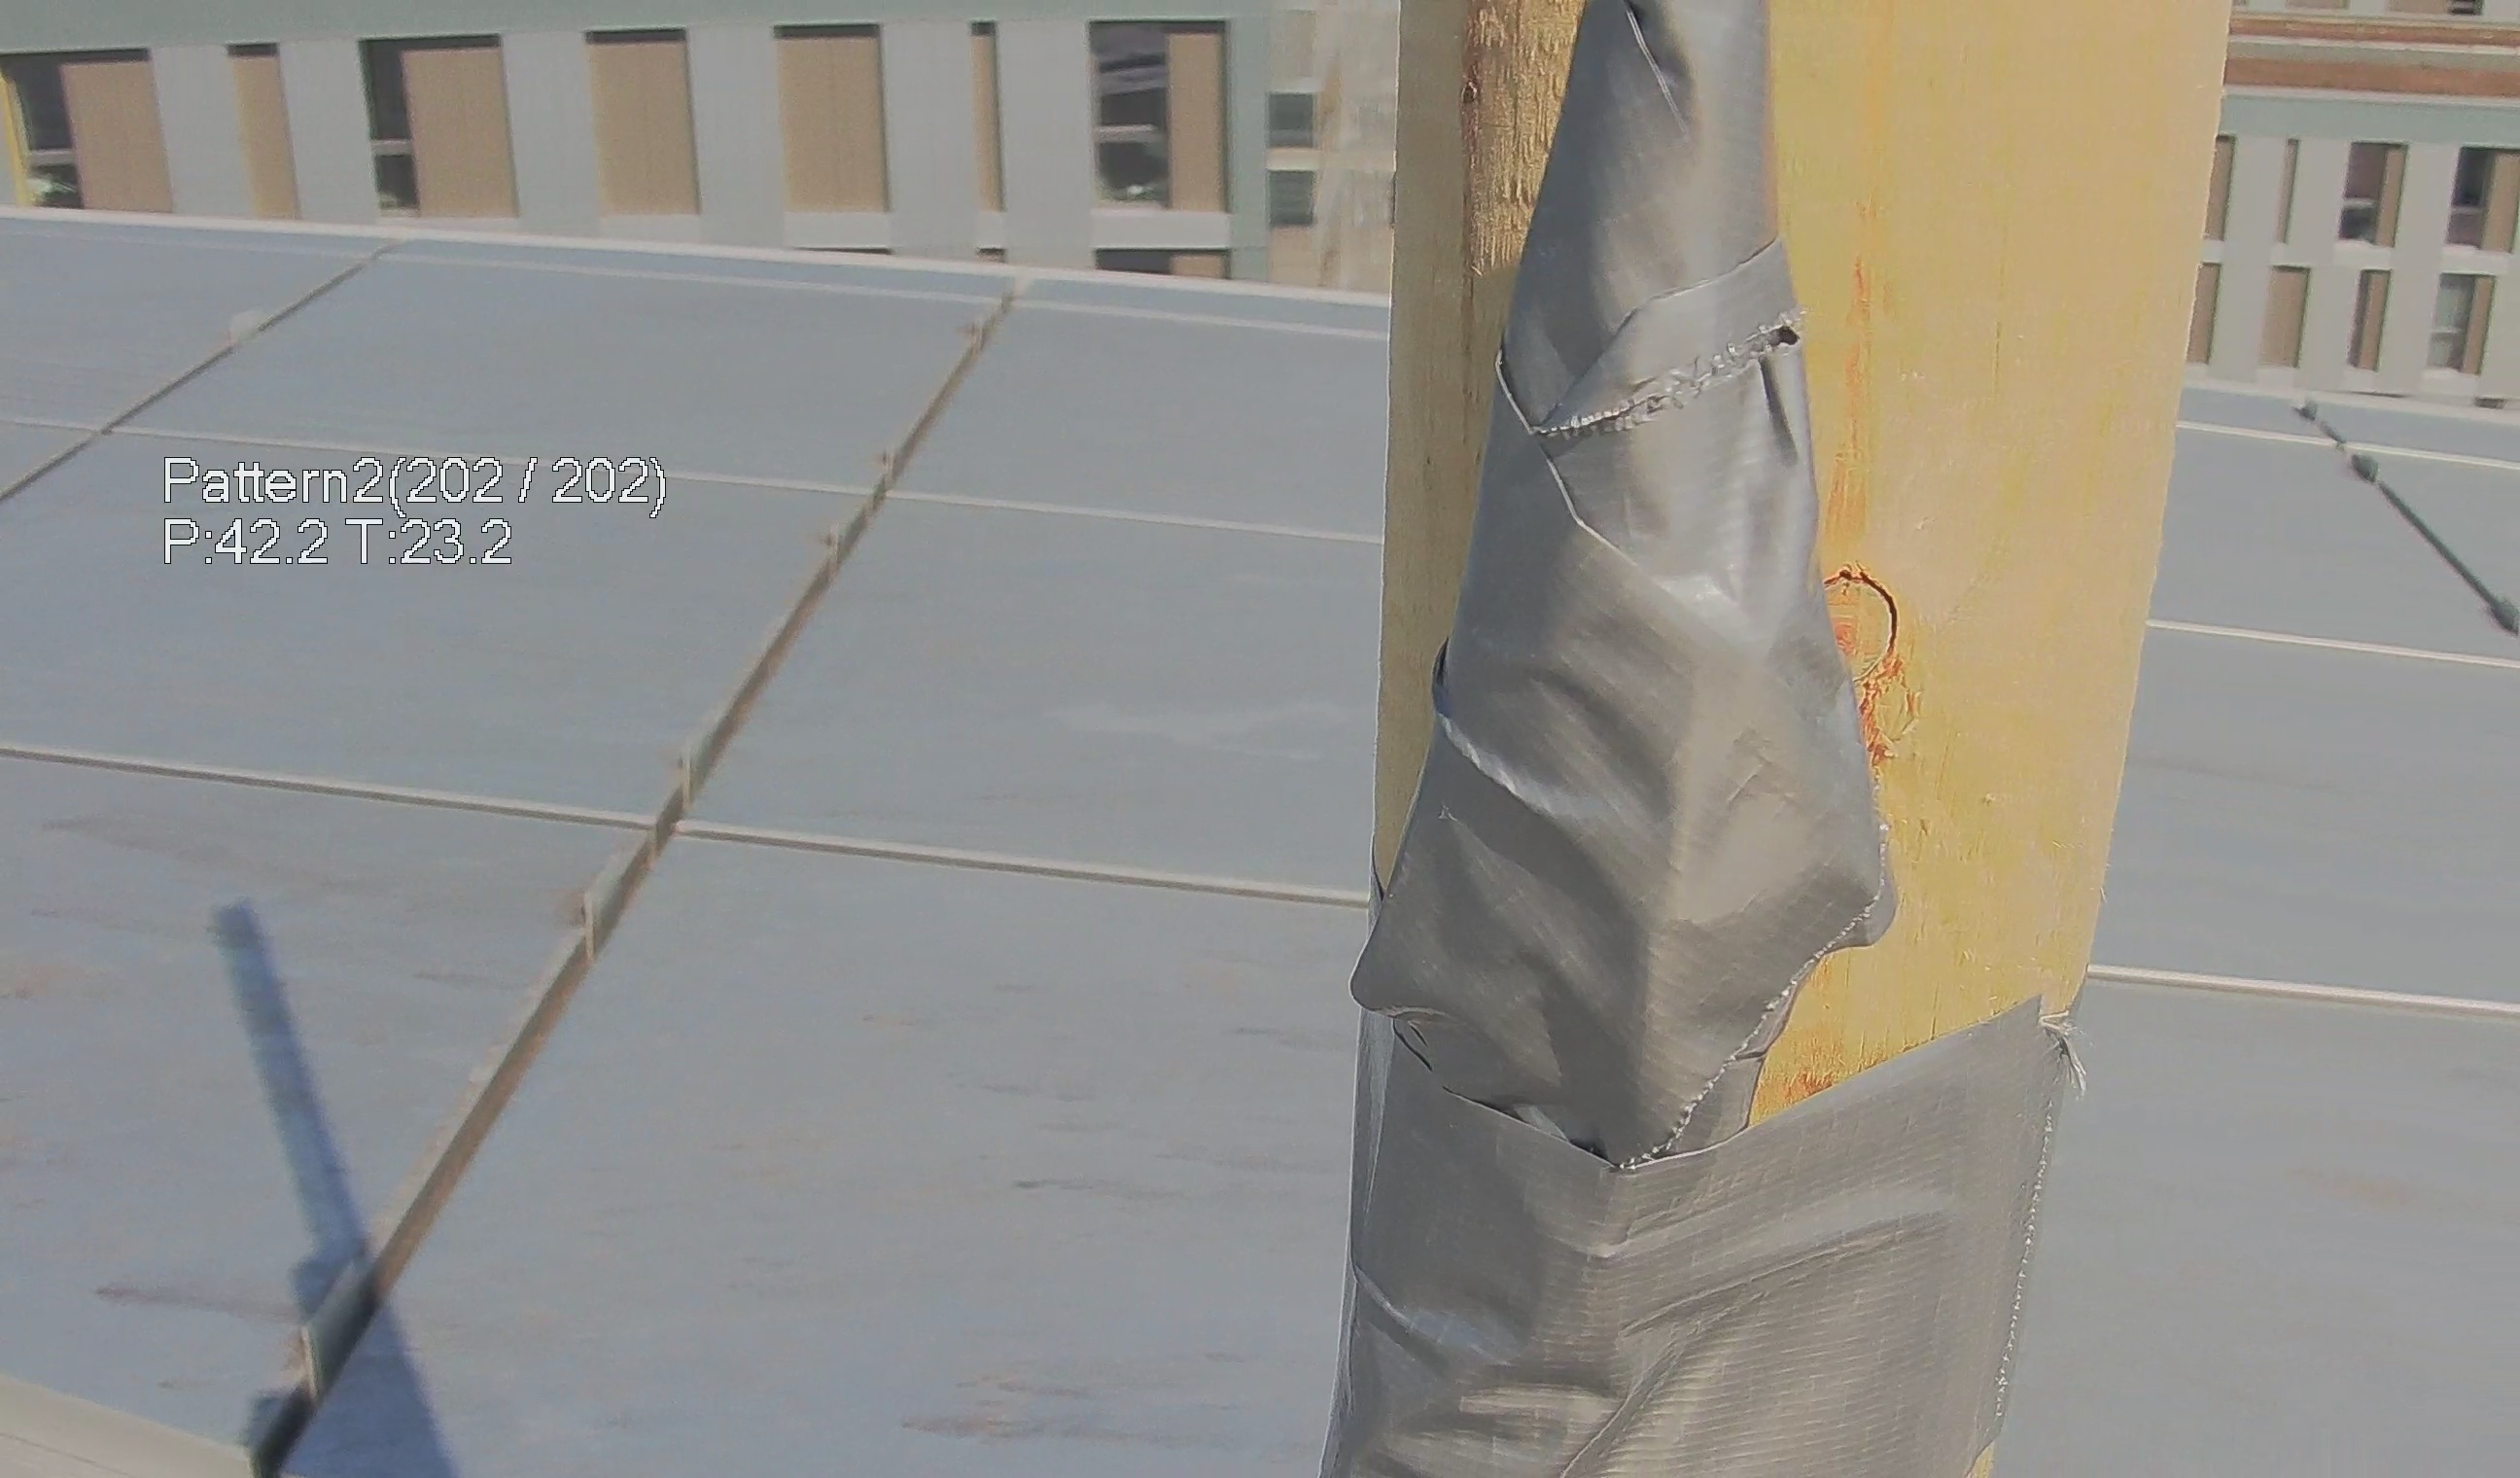Other: (1359, 21, 1901, 1249)
